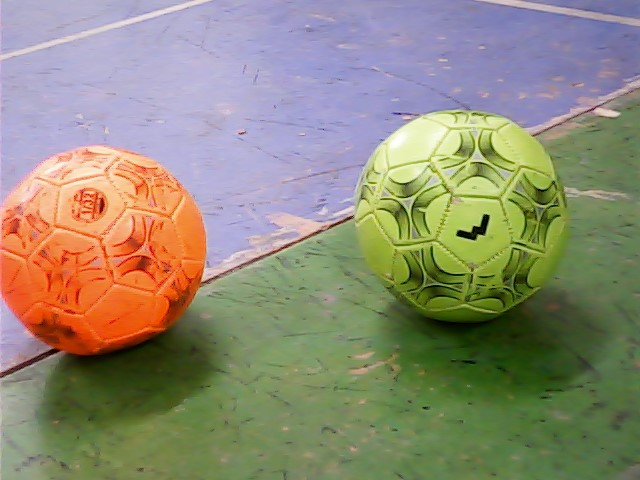Green_ball: (344, 109, 588, 328)
Orange_ball: (1, 132, 214, 357)
